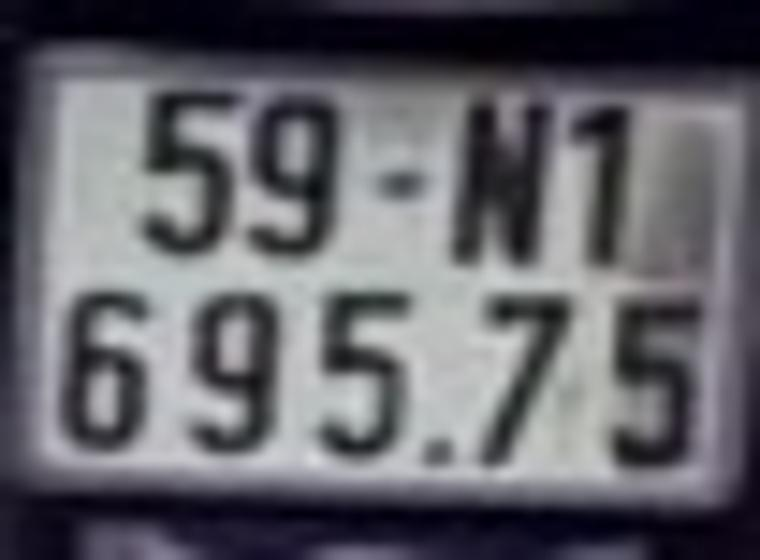-: (371, 167, 429, 204)
.: (423, 439, 460, 468)
1: (569, 98, 630, 270)
5: (608, 303, 703, 466), (316, 283, 405, 454), (146, 91, 230, 259)
6: (63, 290, 150, 454)
7: (475, 282, 573, 475)
9: (188, 290, 277, 452), (250, 92, 333, 258)
N: (454, 99, 541, 264)
